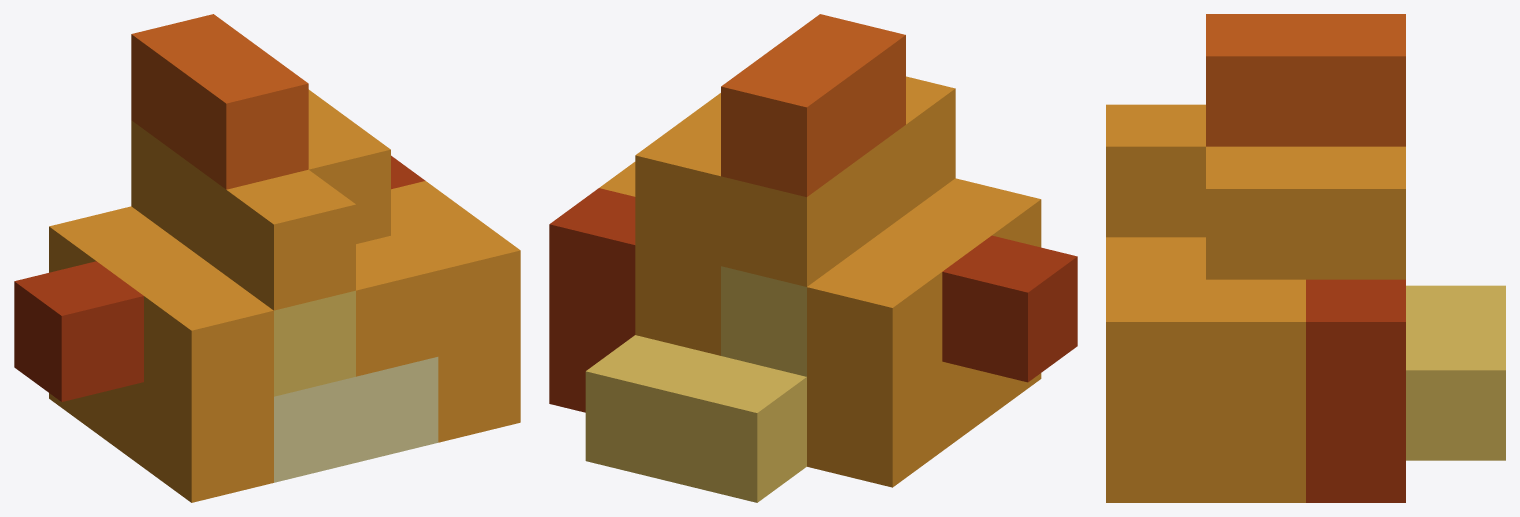
File: torch_flame.glb
3 views of the same model, side by side, from view 1: azimuth 30°, elevation 25°; view 2: azimuth 150°, elevation 25°; view 3: azimuth 270°, elevation 25° (orthographic). The views are drawn at different scales.
Parts seen in each view (by area): view 1: torch_flame; view 2: torch_flame; view 3: torch_flame.
Boxes of the visible parts, <box> form: torch_flame: <box>14,14,520,502</box>; torch_flame: <box>549,14,1077,502</box>; torch_flame: <box>1106,14,1505,502</box>.
Size of the model in its own units: 0.625 by 0.5 by 0.5.
